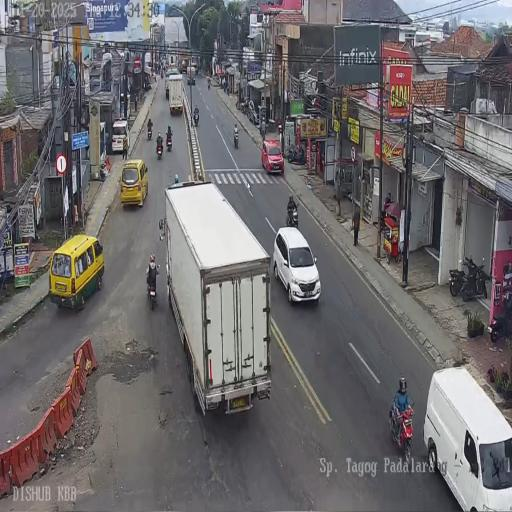car: (423, 368, 512, 512), (48, 234, 105, 309), (273, 226, 319, 304), (119, 158, 148, 209), (261, 138, 284, 175), (111, 118, 130, 154)
motorcycle: (388, 396, 414, 462), (461, 255, 488, 301), (488, 302, 510, 342), (286, 144, 306, 165), (156, 138, 163, 160), (166, 131, 173, 151), (241, 98, 249, 115), (233, 129, 239, 149), (194, 109, 200, 126), (147, 123, 152, 140), (223, 81, 227, 93), (208, 81, 210, 91), (154, 74, 156, 84), (161, 71, 163, 80)
truck: (164, 180, 271, 418), (168, 75, 184, 115), (187, 62, 197, 79), (168, 53, 177, 71), (180, 58, 188, 74)
